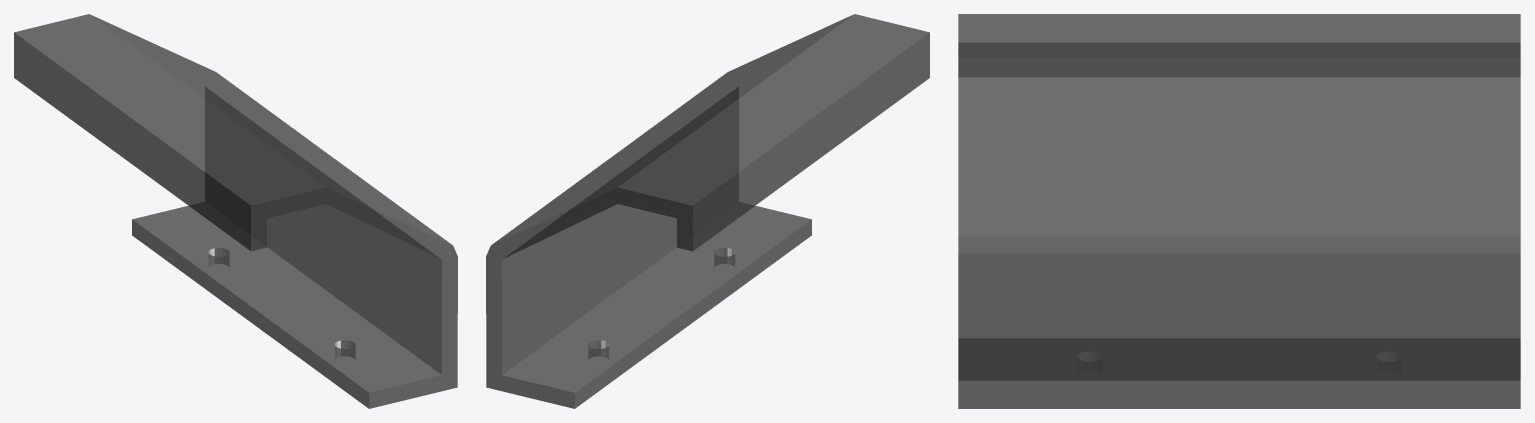
The model's file is InstrumentPanel.glb.
3 renders of one model, left to right at view 1: azimuth 30°, elevation 25°; view 2: azimuth 150°, elevation 25°; view 3: azimuth 270°, elevation 25°, orthographic. The views are drawn at different scales.
Visible parts, largest first — view 1: InstrumentPanel; view 2: InstrumentPanel; view 3: InstrumentPanel.
Part boxes in pixels (bbox=[...]): InstrumentPanel: bbox=[14, 14, 457, 408]; InstrumentPanel: bbox=[486, 14, 929, 408]; InstrumentPanel: bbox=[958, 14, 1520, 408].
Size of the model in its own units: 1.97 by 2.11 by 3.91.
Materials: 1 (1 with a texture image).
